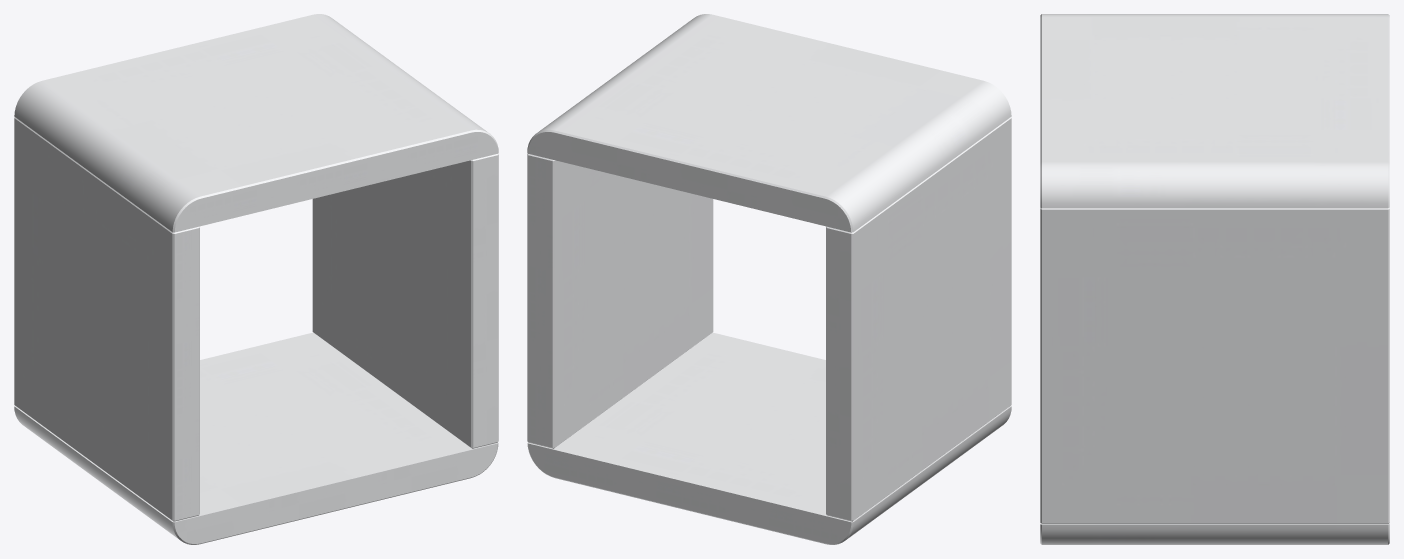
Rendered from repisa.obj.
The picture shows the model from 3 angles, left to right: view 1: azimuth 30°, elevation 25°; view 2: azimuth 150°, elevation 25°; view 3: azimuth 270°, elevation 25°; orthographic projection. The views are drawn at different scales.
Visible parts, largest first — view 1: storage_box:Box02, storage_box:Box03; view 2: storage_box:Box02, storage_box:Box03; view 3: storage_box:Box03, storage_box:Box02.
Boxes of the visible parts, x1,y1,x2,y2 form: storage_box:Box02: (14,14,498,544); storage_box:Box03: (14,117,498,521); storage_box:Box02: (527,14,1011,544); storage_box:Box03: (527,117,1011,521); storage_box:Box03: (1040,207,1389,524); storage_box:Box02: (1040,14,1389,544).
Size of the model in its own units: 0.7961 by 0.8101 by 0.6751.
1 material, 1 textured.
